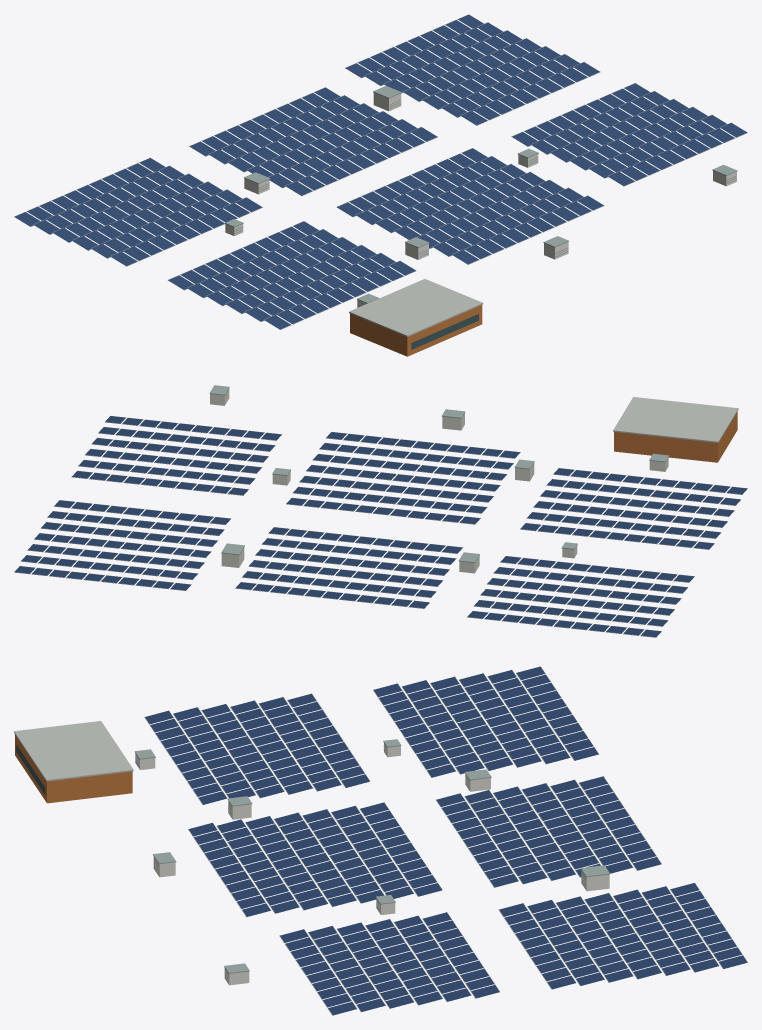
The model's file is SEU_building_patch_v09.glb.
3 renders of one model, top to bottom at view 1: azimuth 30°, elevation 25°; view 2: azimuth 150°, elevation 25°; view 3: azimuth 270°, elevation 25°, orthographic. The views are drawn at different scales.
Visible parts, largest first — view 1: SEU_B_OSMWAY_630686661_V09__equipment_panel_arrays, SEU_B_OSMWAY_630686661_V09__panel_back_frames, SEU_B_OSMWAY_630686661_V09__orange_volume_roofcap, SEU_B_OSMWAY_630686661_V09__orange_roof_volume, SEU_B_OSMWAY_630686661_V09__white_equipment_housings, SEU_B_OSMWAY_630686661_V09__panel_front_frames, SEU_B_OSMWAY_630686661_V09__equipment_caps; view 2: SEU_B_OSMWAY_630686661_V09__equipment_panel_arrays, SEU_B_OSMWAY_630686661_V09__panel_back_frames, SEU_B_OSMWAY_630686661_V09__panel_front_frames, SEU_B_OSMWAY_630686661_V09__orange_volume_roofcap, SEU_B_OSMWAY_630686661_V09__orange_roof_volume, SEU_B_OSMWAY_630686661_V09__white_equipment_housings, SEU_B_OSMWAY_630686661_V09__equipment_caps; view 3: SEU_B_OSMWAY_630686661_V09__equipment_panel_arrays, SEU_B_OSMWAY_630686661_V09__orange_volume_roofcap, SEU_B_OSMWAY_630686661_V09__panel_front_frames, SEU_B_OSMWAY_630686661_V09__panel_back_frames, SEU_B_OSMWAY_630686661_V09__orange_roof_volume, SEU_B_OSMWAY_630686661_V09__white_equipment_housings, SEU_B_OSMWAY_630686661_V09__equipment_caps.
Boxes of the visible parts, box(x1,y1,x2,y2) form: SEU_B_OSMWAY_630686661_V09__equipment_panel_arrays: box(14, 14, 746, 329); SEU_B_OSMWAY_630686661_V09__panel_back_frames: box(14, 14, 731, 319); SEU_B_OSMWAY_630686661_V09__orange_volume_roofcap: box(349, 279, 483, 336); SEU_B_OSMWAY_630686661_V09__orange_roof_volume: box(350, 305, 482, 356); SEU_B_OSMWAY_630686661_V09__white_equipment_housings: box(225, 92, 736, 307); SEU_B_OSMWAY_630686661_V09__panel_front_frames: box(30, 28, 747, 329); SEU_B_OSMWAY_630686661_V09__equipment_caps: box(225, 86, 737, 303); SEU_B_OSMWAY_630686661_V09__equipment_panel_arrays: box(14, 416, 747, 637); SEU_B_OSMWAY_630686661_V09__panel_back_frames: box(14, 422, 742, 637); SEU_B_OSMWAY_630686661_V09__panel_front_frames: box(20, 415, 747, 631); SEU_B_OSMWAY_630686661_V09__orange_volume_roofcap: box(613, 397, 738, 442); SEU_B_OSMWAY_630686661_V09__orange_roof_volume: box(614, 411, 737, 462); SEU_B_OSMWAY_630686661_V09__white_equipment_housings: box(210, 389, 668, 573); SEU_B_OSMWAY_630686661_V09__equipment_caps: box(209, 385, 669, 562); SEU_B_OSMWAY_630686661_V09__equipment_panel_arrays: box(145, 666, 747, 1015); SEU_B_OSMWAY_630686661_V09__orange_volume_roofcap: box(14, 721, 133, 781); SEU_B_OSMWAY_630686661_V09__panel_front_frames: box(144, 673, 723, 1015); SEU_B_OSMWAY_630686661_V09__panel_back_frames: box(168, 666, 747, 1008); SEU_B_OSMWAY_630686661_V09__orange_roof_volume: box(15, 734, 132, 803); SEU_B_OSMWAY_630686661_V09__white_equipment_housings: box(135, 743, 609, 985); SEU_B_OSMWAY_630686661_V09__equipment_caps: box(134, 739, 609, 973).
Bounding box in the file's own units: 82.61 × 2.64 × 74.15.
